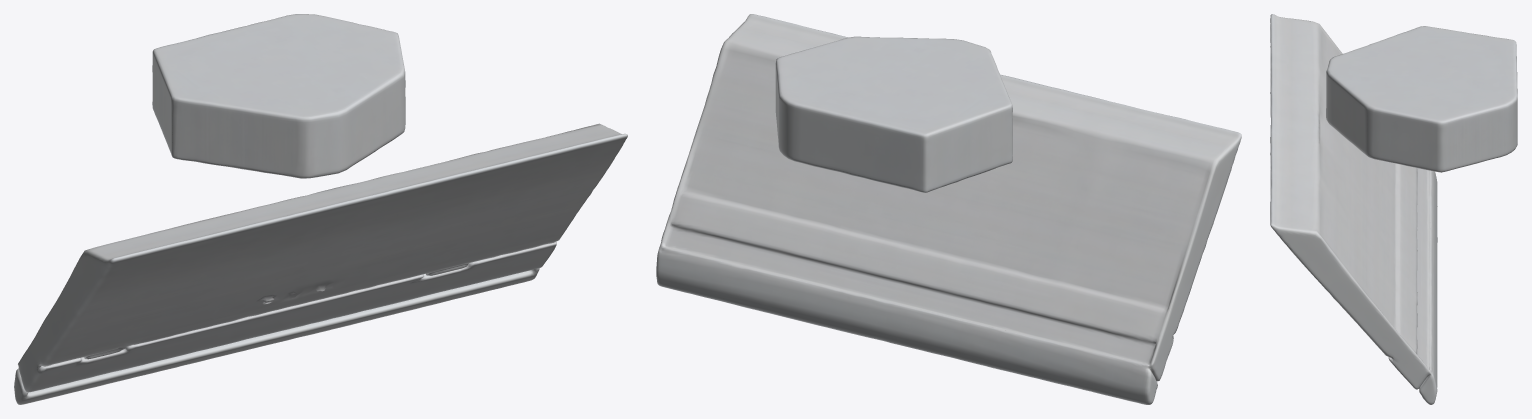
File: white-hood-v2-raw.glb
3 views of the same model, side by side, from view 1: azimuth 30°, elevation 25°; view 2: azimuth 150°, elevation 25°; view 3: azimuth 270°, elevation 25° (orthographic). The views are drawn at different scales.
Parts seen in each view (by area): view 1: model; view 2: model; view 3: model.
Part boxes in pixels (left/top/right/bottom): model: left=14, top=14, right=627, bottom=404; model: left=656, top=14, right=1241, bottom=404; model: left=1270, top=14, right=1517, bottom=404.
Bounding box in the file's own units: 1.9 × 0.9641 × 0.9344.
Materials: 1 (1 with a texture image).
